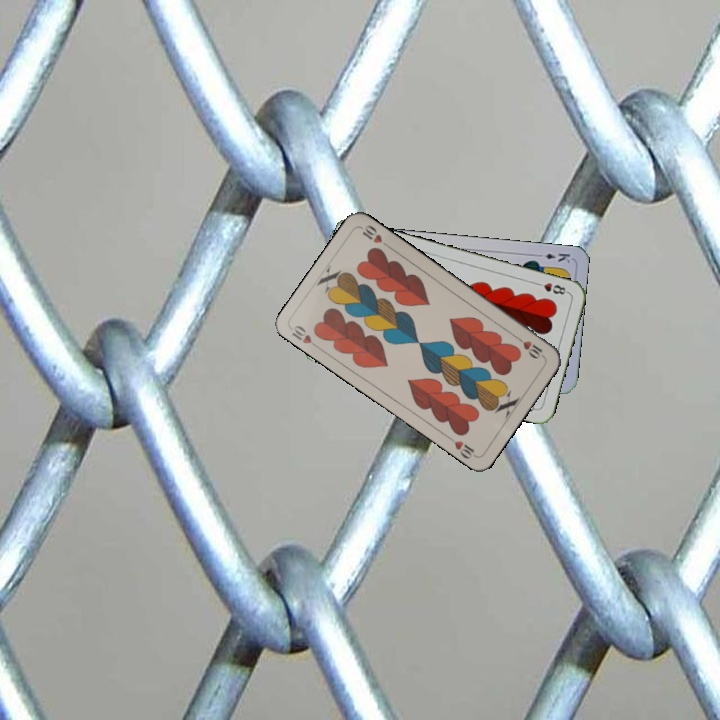EK: (532, 249, 573, 265)
H10: (287, 321, 323, 352), (512, 332, 547, 361)
H8: (531, 278, 571, 297)
